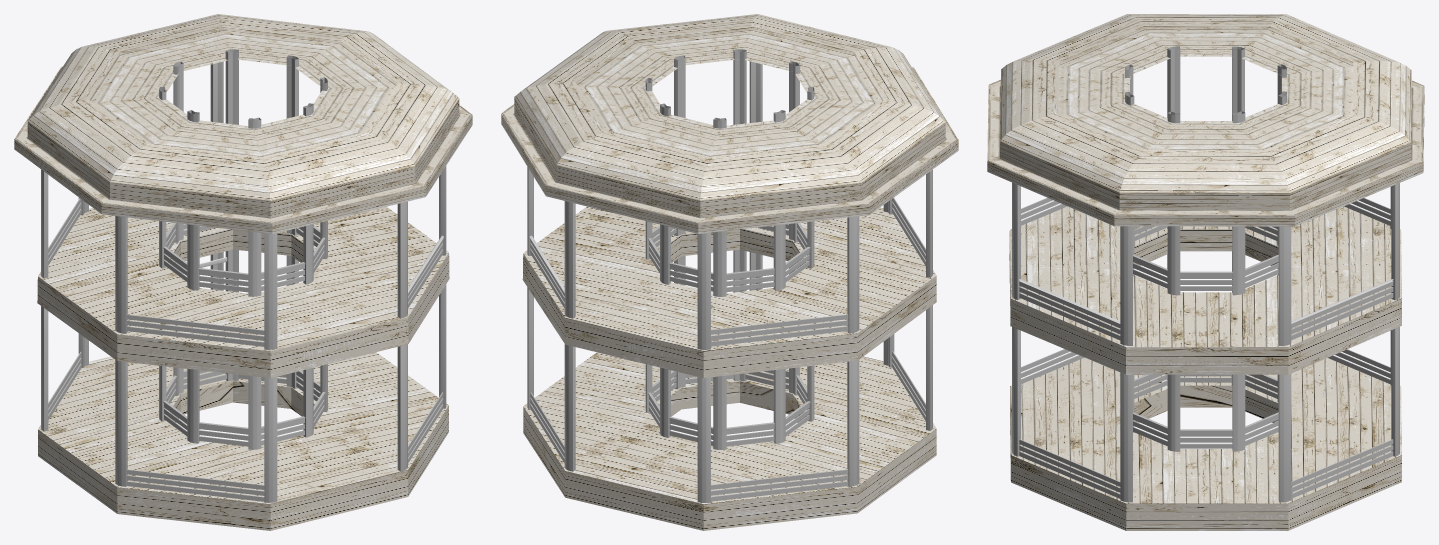
File: Gazebo 4.fbx
The picture shows the model from 3 angles, left to right: view 1: azimuth 30°, elevation 25°; view 2: azimuth 150°, elevation 25°; view 3: azimuth 270°, elevation 25°; orthographic projection. The views are drawn at different scales.
Visible parts, largest first — view 1: Circle, Circle.002, Circle.003, Cube.002, Cube.018, Cube.026, Cube.019, Cube.036, Cube.027, Cube.008; view 2: Circle, Circle.002, Circle.003, Cube.002, Cube.018, Cube.026, Cube.019, Cube.036, Cube.027, Cube.008; view 3: Circle, Circle.002, Circle.003, Cube.002, Cube.018, Cube.019, Cube.026, Cube.036, Cube.027, Cube.008.
Part boxes in pixels (x1,y1,x2,y2): Circle: (14,14,472,233); Circle.002: (38,352,448,530); Circle.003: (37,206,449,378); Cube.002: (159,49,327,449); Cube.018: (41,252,446,502); Cube.026: (41,61,446,349); Cube.019: (48,352,443,501); Cube.036: (48,198,443,346); Cube.027: (163,370,325,446); Cube.008: (163,222,325,292); Circle: (501,14,958,233); Circle.002: (523,352,936,530); Circle.003: (522,206,936,377); Cube.002: (645,49,814,449); Cube.018: (527,252,932,502); Cube.026: (527,61,932,349); Cube.019: (530,351,925,501); Cube.036: (530,197,925,346); Cube.027: (648,370,810,446); Cube.008: (648,223,810,292); Circle: (987,14,1424,226); Circle.002: (1010,357,1401,530); Circle.003: (1009,206,1401,374); Cube.002: (1125,46,1286,451); Cube.018: (1012,327,1399,502); Cube.019: (1019,349,1393,498); Cube.026: (1012,182,1399,345); Cube.036: (1019,197,1393,340); Cube.027: (1133,374,1278,448); Cube.008: (1133,226,1278,290).
Size of the model in its own units: 770 by 713 by 770.
